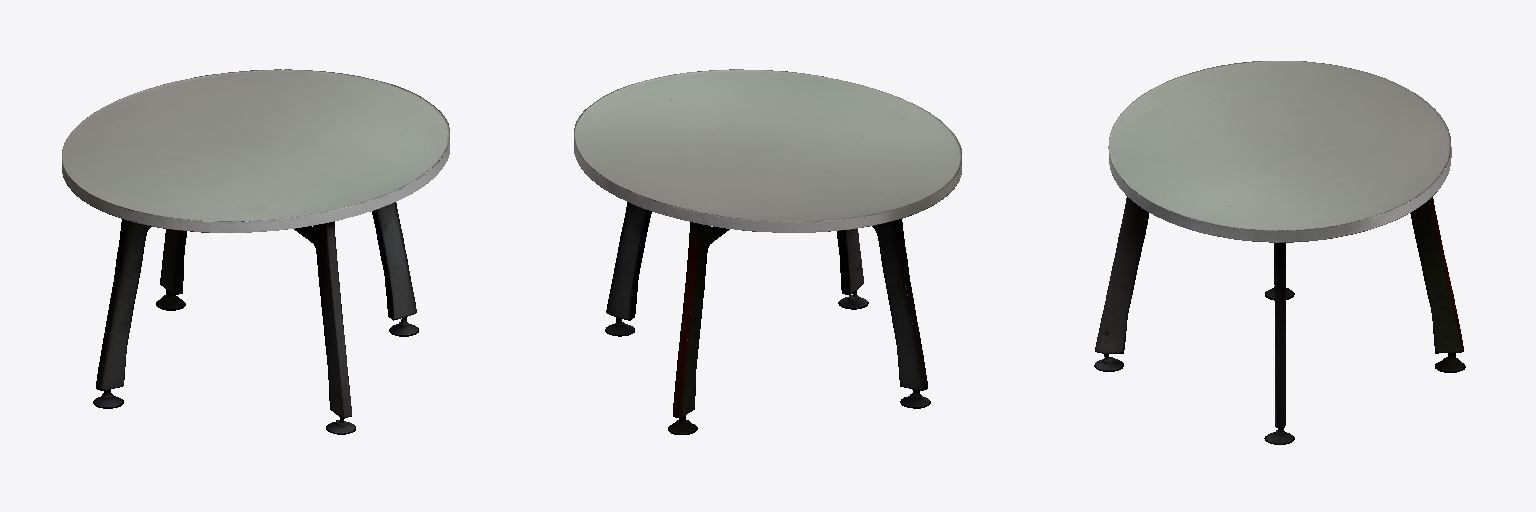
3 views of the same model, side by side, from view 1: azimuth 30°, elevation 25°; view 2: azimuth 150°, elevation 25°; view 3: azimuth 270°, elevation 25° (orthographic).
Visible parts, largest first — view 1: geometry_0; view 2: geometry_0; view 3: geometry_0.
Part boxes in pixels (x1,y1,x2,y2): geometry_0: (62,69,449,434); geometry_0: (574,69,961,434); geometry_0: (1094,61,1465,444).
Size of the model in its own units: 0.9951 by 0.6037 by 0.9167.
1 materials, 1 textured.